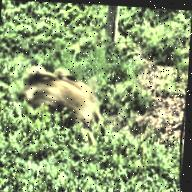boar: (10, 53, 109, 145), (54, 65, 105, 108)
